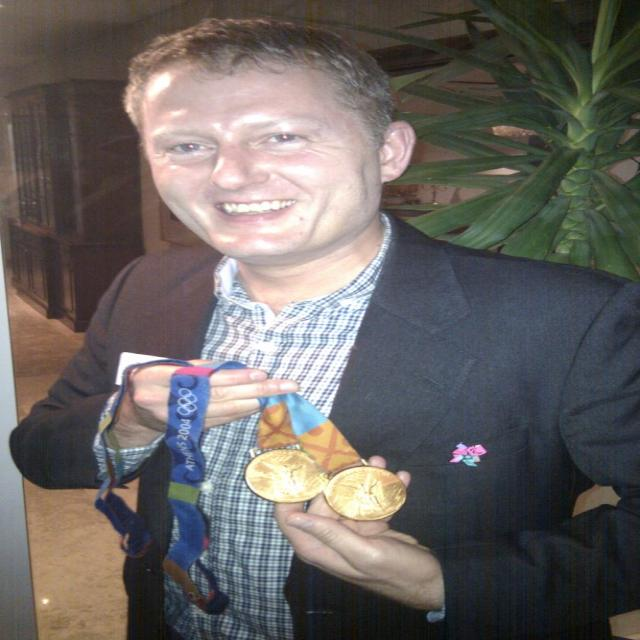Coin: (323, 464, 409, 522), (239, 448, 330, 499)
